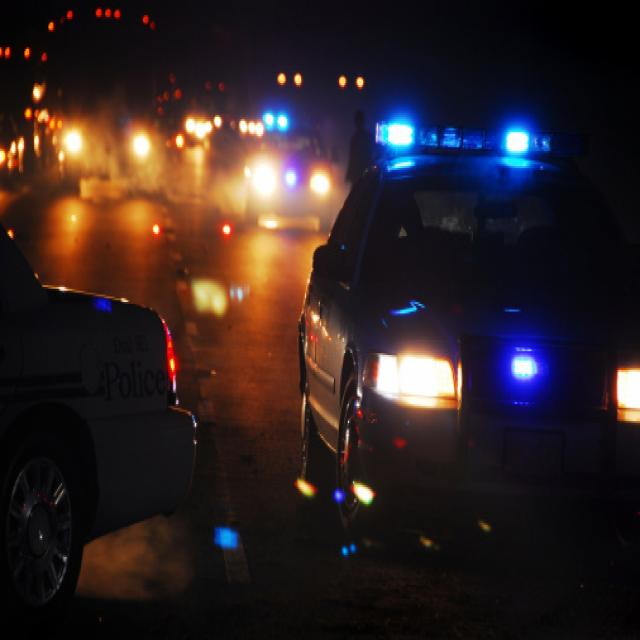Car: (293, 179, 640, 591)
